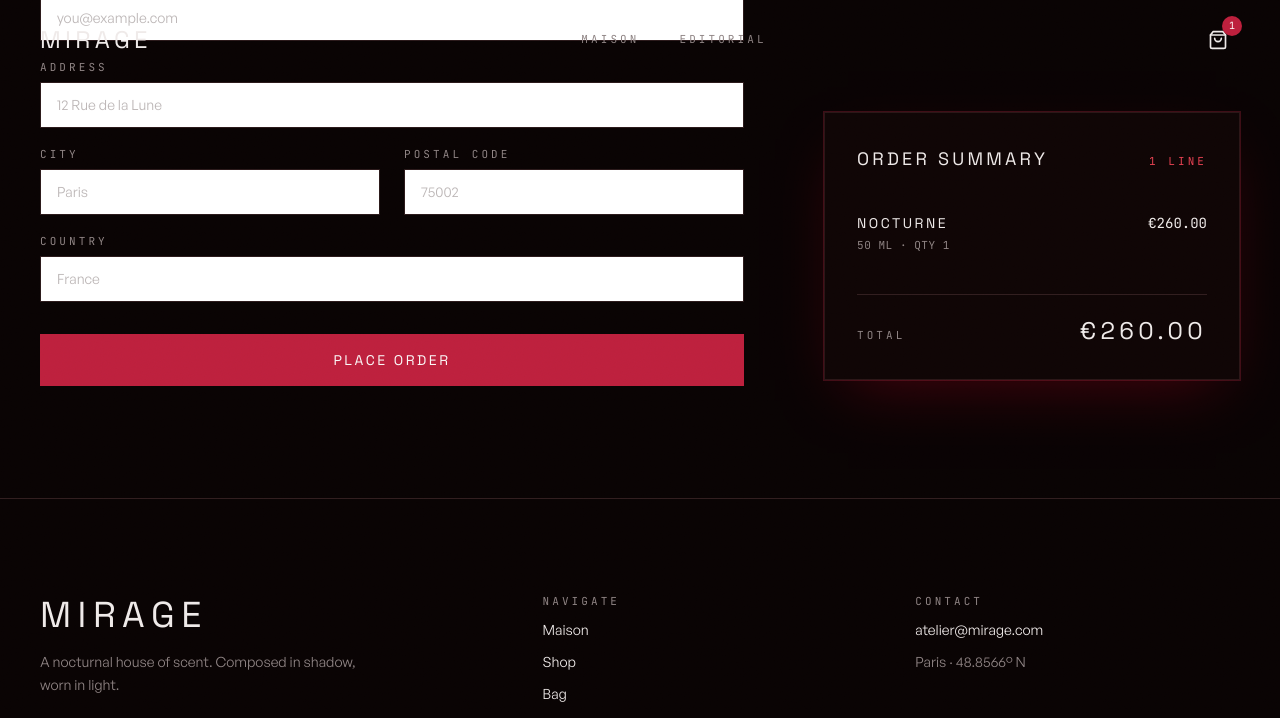
Test case: shop flow › validates checkout details before placing an order
(page scrolled)
Click the button with test id "checkout.submit_button" at (392, 360), box x1=40 y1=334 x2=744 y2=386
(page scrolled)
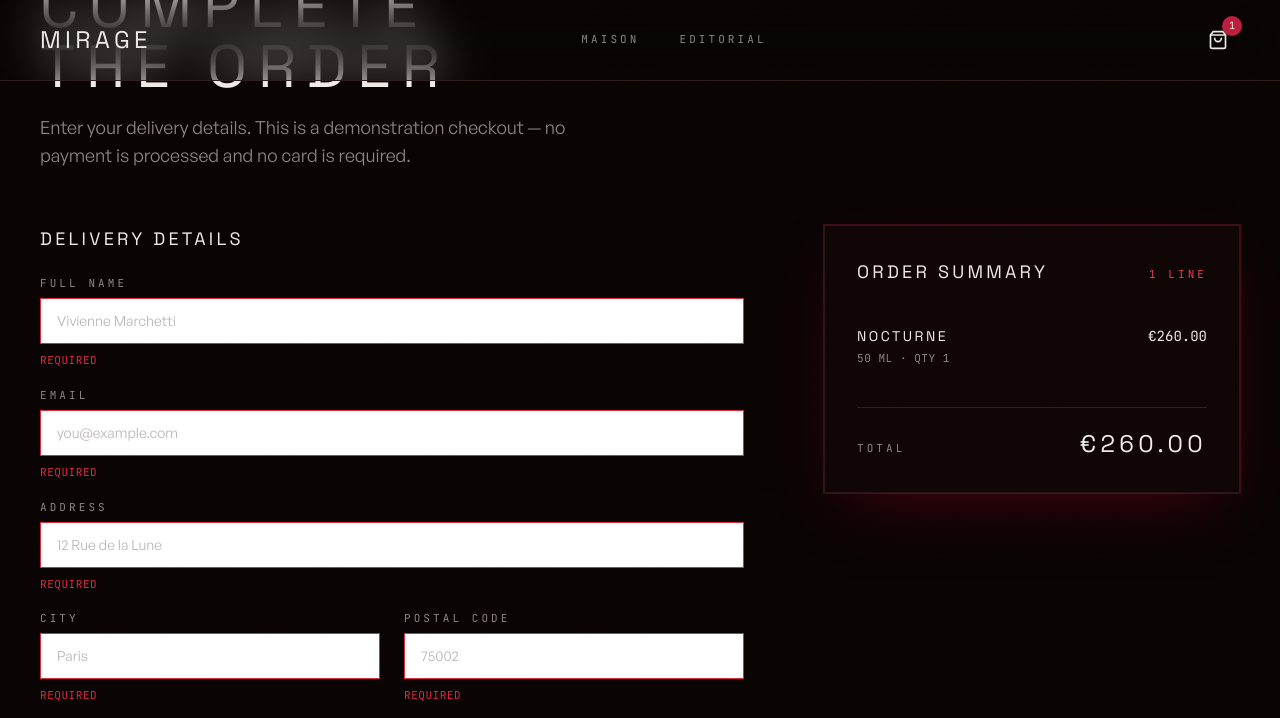
Expected: the text with test id "checkout.error.fullName" reads "Required", x1=40 y1=353 x2=97 y2=367
